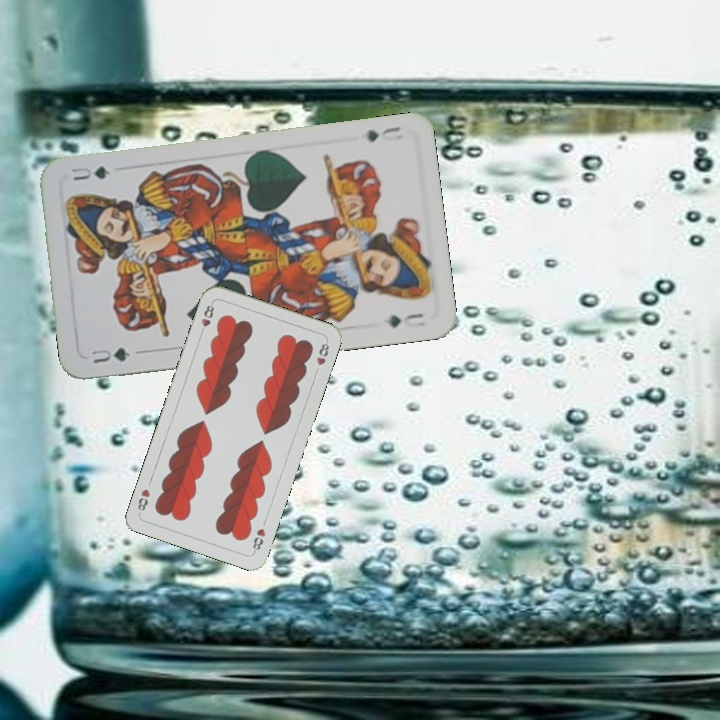GU: (87, 343, 133, 366), (363, 123, 403, 144)
H8: (196, 298, 217, 338), (249, 524, 268, 555)
